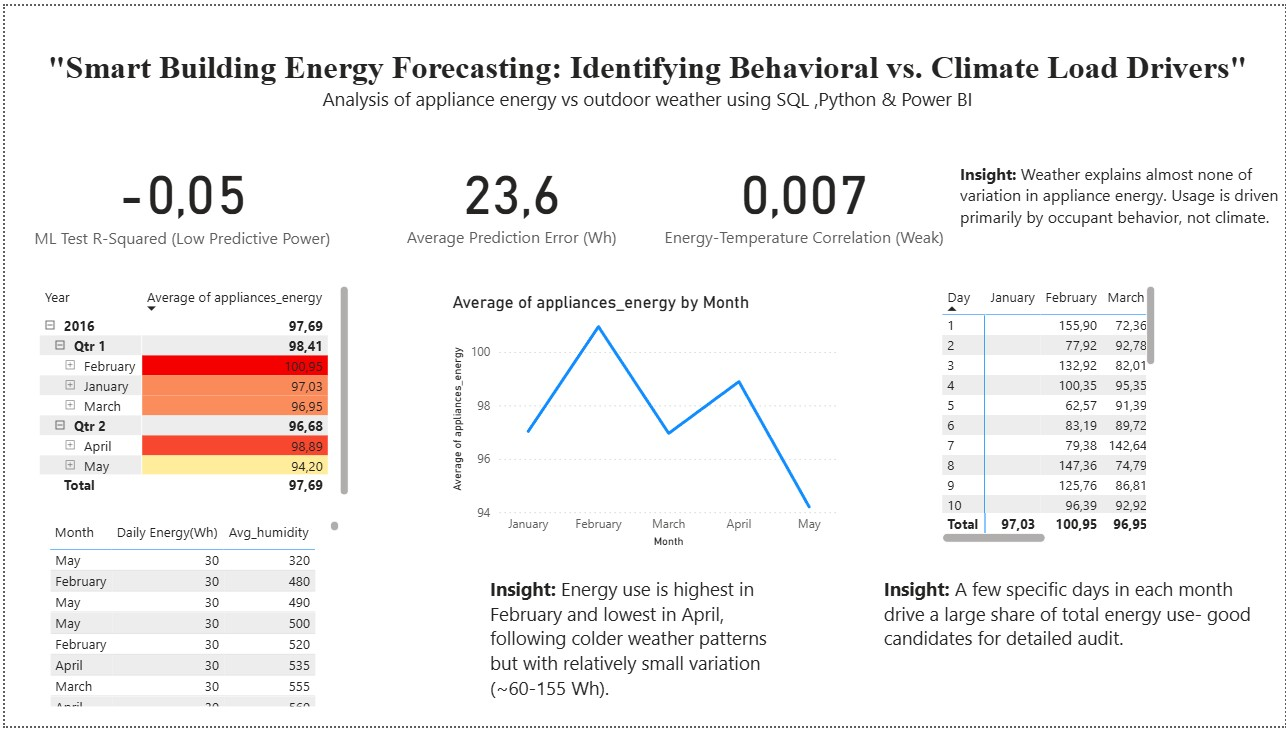

What the dashboard file says about the page in this screenshot:
{"tool":"powerbi","page":{"name":"Page 1","canvas":[1280,720],"ordinal":0},"visuals":[{"type":"pivotTable","fields":{"Rows":["final_smart_city_data.date.Variation.Date Hierarchy.Year","final_smart_city_data.date.Variation.Date Hierarchy.Quarter","final_smart_city_data.date.Variation.Date Hierarchy.Month","final_smart_city_data.date.Variation.Date Hierarchy.Day"],"Columns":["final_smart_city_data.date.Variation.Date Hierarchy.Year","final_smart_city_data.date.Variation.Date Hierarchy.Quarter","final_smart_city_data.date.Variation.Date Hierarchy.Month","final_smart_city_data.date.Variation.Date Hierarchy.Day"],"Values":["Avg(final_smart_city_data.appliances_energy)"]},"box":[30,275,318.8,218.8],"z":0},{"type":"lineChart","fields":{"Category":["final_smart_city_data.date.Variation.Date Hierarchy.Month"],"Y":["Avg(final_smart_city_data.appliances_energy)"]},"box":[442.5,286.2,395,260],"z":1000},{"type":"pivotTable","fields":{"Rows":["final_smart_city_data.date.Variation.Date Hierarchy.Day"],"Columns":["final_smart_city_data.date.Variation.Date Hierarchy.Month"],"Values":["Avg(final_smart_city_data.appliances_energy)"]},"box":[932.5,275,222.5,266.2],"z":2000},{"type":"textbox","box":[16.2,37.5,1252.5,88.8],"z":3000},{"type":"card","fields":{"Values":["final_smart_city_data.R-Squared"]},"box":[16.2,133.8,322.5,118.8],"z":4000},{"type":"card","fields":{"Values":["final_smart_city_data.ML Test MAE"]},"box":[373.8,132.5,266.2,120],"z":5000},{"type":"card","fields":{"Values":["final_smart_city_data.Energy-Temp Correlation"]},"box":[648.8,132.5,301.2,120],"z":6000},{"type":"textbox","box":[480,565,318.8,136.2],"z":7000},{"type":"textbox","box":[873.8,565,395,102.5],"z":8000},{"type":"textbox","box":[950,151.2,330,85],"z":9000},{"type":"tableEx","fields":{"Values":["final_smart_city_data.date.Variation.Date Hierarchy.Month","final_smart_city_data.appliances_energy","final_smart_city_data.avg_humidity"]},"box":[38.8,510,300,195],"z":10000}]}

Visuals, with their boxes in screenshot pixels (x1, y1, x2, y2), scaled from the page's 1280x720 canvas onto the 1286x730 screenshot:
pivotTable - final_smart_city_data.date.Variation.Date Hierarchy.Year x final_smart_city_data.date.Variation.Date Hierarchy.Quarter: bbox=(30, 279, 350, 501)
lineChart - final_smart_city_data.date.Variation.Date Hierarchy.Month x Avg(final_smart_city_data.appliances_energy): bbox=(445, 290, 841, 554)
pivotTable - final_smart_city_data.date.Variation.Date Hierarchy.Day x final_smart_city_data.date.Variation.Date Hierarchy.Month: bbox=(937, 279, 1160, 549)
textbox: bbox=(16, 38, 1275, 128)
card - final_smart_city_data.R-Squared: bbox=(16, 136, 340, 256)
card - final_smart_city_data.ML Test MAE: bbox=(376, 134, 643, 256)
card - final_smart_city_data.Energy-Temp Correlation: bbox=(652, 134, 954, 256)
textbox: bbox=(482, 573, 803, 711)
textbox: bbox=(878, 573, 1275, 677)
textbox: bbox=(954, 153, 1285, 239)
tableEx - final_smart_city_data.date.Variation.Date Hierarchy.Month x final_smart_city_data.appliances_energy: bbox=(39, 517, 340, 715)
